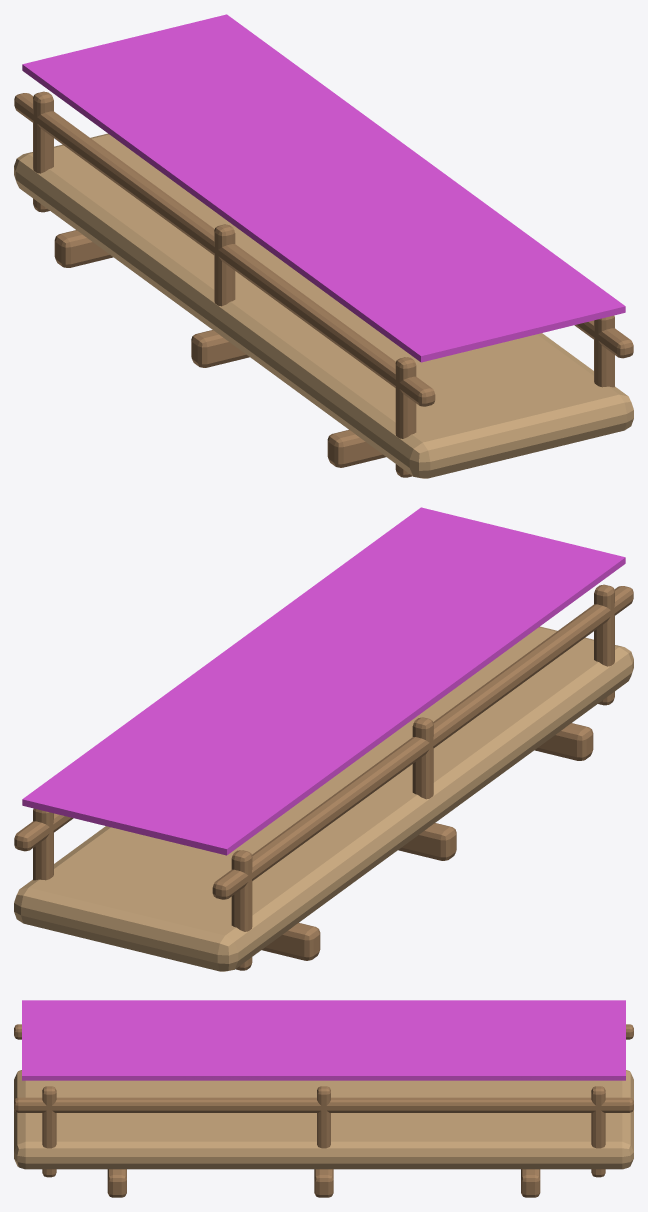
Rendered from stream_footbridge_lod1_v1.glb.
3 views of the same model, one above another, from view 1: azimuth 30°, elevation 25°; view 2: azimuth 150°, elevation 25°; view 3: azimuth 270°, elevation 25° (orthographic). The views are drawn at different scales.
Visible parts, largest first — view 1: NAV_MASK_STREAM_FOOTBRIDGE, LOD1_STREAM_FOOTBRIDGE_Deck, LOD1_STREAM_FOOTBRIDGE_Rail, LOD1_STREAM_FOOTBRIDGE_Post, LOD1_STREAM_FOOTBRIDGE_Post.002, LOD1_STREAM_FOOTBRIDGE_CrossBeam_01, LOD1_STREAM_FOOTBRIDGE_CrossBeam_03, LOD1_STREAM_FOOTBRIDGE_CrossBeam_02, LOD1_STREAM_FOOTBRIDGE_Post.001, LOD1_STREAM_FOOTBRIDGE_Post.003, LOD1_STREAM_FOOTBRIDGE_Rail.001; view 2: NAV_MASK_STREAM_FOOTBRIDGE, LOD1_STREAM_FOOTBRIDGE_Deck, LOD1_STREAM_FOOTBRIDGE_Rail, LOD1_STREAM_FOOTBRIDGE_Post.002, LOD1_STREAM_FOOTBRIDGE_Post, LOD1_STREAM_FOOTBRIDGE_CrossBeam_01, LOD1_STREAM_FOOTBRIDGE_CrossBeam_03, LOD1_STREAM_FOOTBRIDGE_CrossBeam_02, LOD1_STREAM_FOOTBRIDGE_Post.001, LOD1_STREAM_FOOTBRIDGE_Post.005, LOD1_STREAM_FOOTBRIDGE_Rail.001; view 3: NAV_MASK_STREAM_FOOTBRIDGE, LOD1_STREAM_FOOTBRIDGE_Deck, LOD1_STREAM_FOOTBRIDGE_Rail.001, LOD1_STREAM_FOOTBRIDGE_Post.005, LOD1_STREAM_FOOTBRIDGE_Post.003, LOD1_STREAM_FOOTBRIDGE_Post.004, LOD1_STREAM_FOOTBRIDGE_CrossBeam_01, LOD1_STREAM_FOOTBRIDGE_CrossBeam_02, LOD1_STREAM_FOOTBRIDGE_CrossBeam_03.
Boxes of the visible parts, left/top/right/bottom form: NAV_MASK_STREAM_FOOTBRIDGE: left=22, top=14, right=625, bottom=362; LOD1_STREAM_FOOTBRIDGE_Deck: left=14, top=133, right=633, bottom=478; LOD1_STREAM_FOOTBRIDGE_Rail: left=14, top=93, right=435, bottom=406; LOD1_STREAM_FOOTBRIDGE_Post: left=395, top=357, right=416, bottom=477; LOD1_STREAM_FOOTBRIDGE_Post.002: left=33, top=91, right=53, bottom=212; LOD1_STREAM_FOOTBRIDGE_CrossBeam_01: left=327, top=430, right=385, bottom=467; LOD1_STREAM_FOOTBRIDGE_CrossBeam_03: left=54, top=230, right=113, bottom=267; LOD1_STREAM_FOOTBRIDGE_CrossBeam_02: left=191, top=330, right=249, bottom=367; LOD1_STREAM_FOOTBRIDGE_Post.001: left=214, top=224, right=235, bottom=306; LOD1_STREAM_FOOTBRIDGE_Post.003: left=594, top=315, right=614, bottom=387; LOD1_STREAM_FOOTBRIDGE_Rail.001: left=574, top=320, right=633, bottom=358; NAV_MASK_STREAM_FOOTBRIDGE: left=22, top=507, right=625, bottom=855; LOD1_STREAM_FOOTBRIDGE_Deck: left=14, top=626, right=633, bottom=971; LOD1_STREAM_FOOTBRIDGE_Rail: left=212, top=586, right=633, bottom=899; LOD1_STREAM_FOOTBRIDGE_Post.002: left=231, top=850, right=252, bottom=970; LOD1_STREAM_FOOTBRIDGE_Post: left=594, top=584, right=614, bottom=705; LOD1_STREAM_FOOTBRIDGE_CrossBeam_01: left=534, top=723, right=593, bottom=760; LOD1_STREAM_FOOTBRIDGE_CrossBeam_03: left=262, top=923, right=320, bottom=960; LOD1_STREAM_FOOTBRIDGE_CrossBeam_02: left=398, top=823, right=456, bottom=860; LOD1_STREAM_FOOTBRIDGE_Post.001: left=412, top=717, right=433, bottom=799; LOD1_STREAM_FOOTBRIDGE_Post.005: left=33, top=808, right=53, bottom=880; LOD1_STREAM_FOOTBRIDGE_Rail.001: left=14, top=813, right=73, bottom=851; NAV_MASK_STREAM_FOOTBRIDGE: left=22, top=1000, right=625, bottom=1080; LOD1_STREAM_FOOTBRIDGE_Deck: left=14, top=1070, right=633, bottom=1169; LOD1_STREAM_FOOTBRIDGE_Rail.001: left=14, top=1097, right=633, bottom=1112; LOD1_STREAM_FOOTBRIDGE_Post.005: left=591, top=1086, right=605, bottom=1177; LOD1_STREAM_FOOTBRIDGE_Post.003: left=42, top=1086, right=56, bottom=1177; LOD1_STREAM_FOOTBRIDGE_Post.004: left=317, top=1086, right=330, bottom=1148; LOD1_STREAM_FOOTBRIDGE_CrossBeam_01: left=107, top=1169, right=126, bottom=1197; LOD1_STREAM_FOOTBRIDGE_CrossBeam_02: left=314, top=1169, right=333, bottom=1197; LOD1_STREAM_FOOTBRIDGE_CrossBeam_03: left=521, top=1169, right=540, bottom=1197.
Size of what is drawn, in the model's own units: 2.55 by 1.42 by 7.
